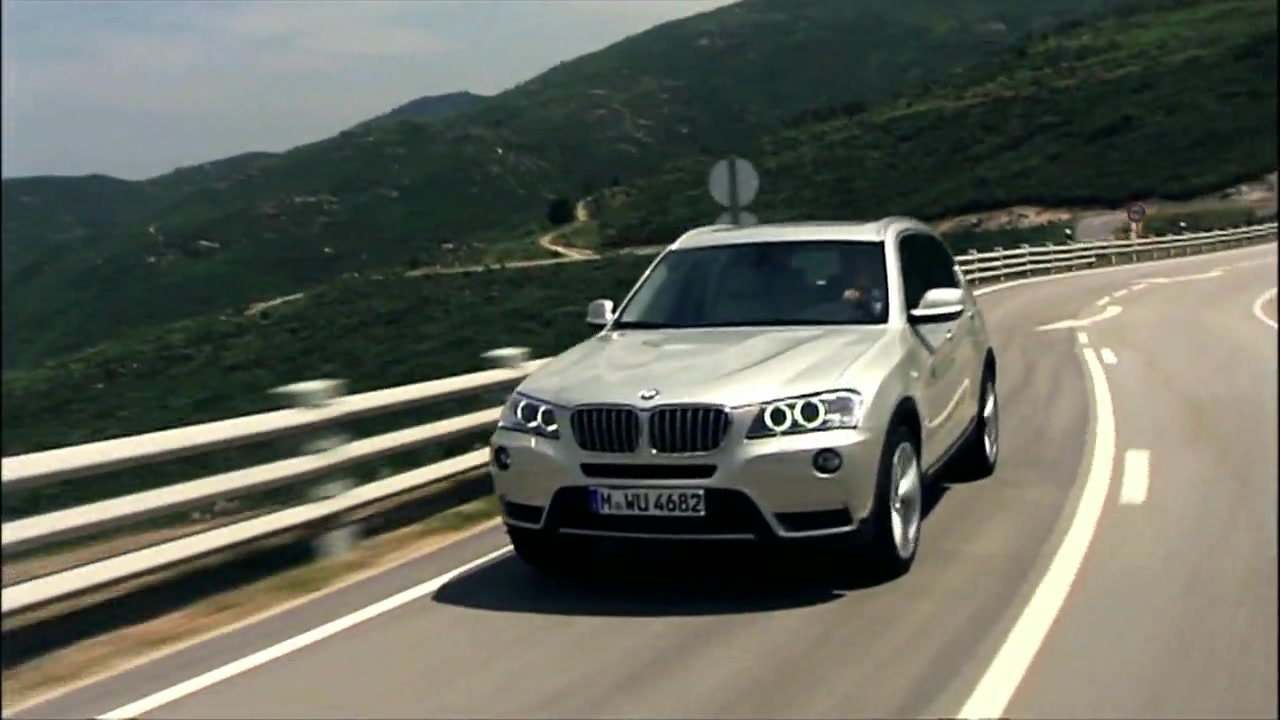car: (487, 217, 1008, 589)
